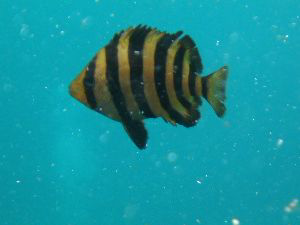azi: (67, 26, 241, 152)
